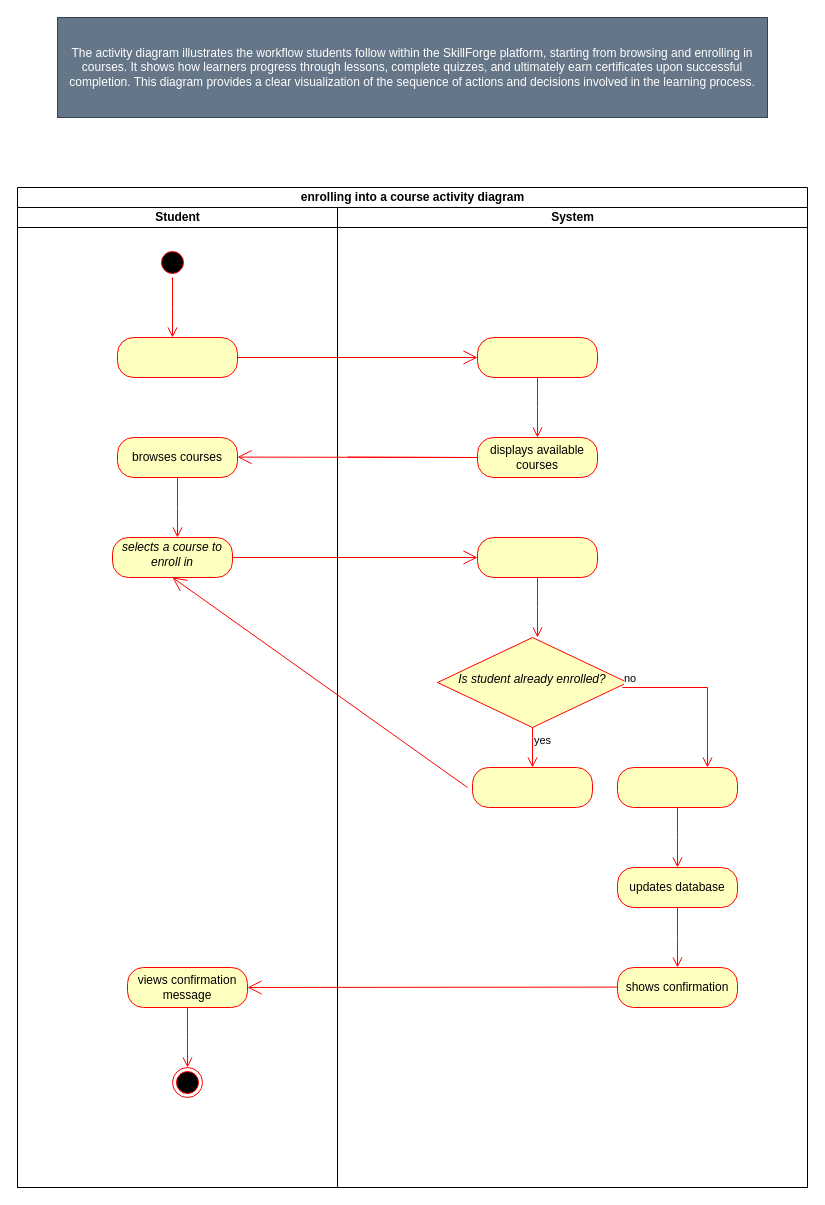
Image size: 825x1205. Some labels were removed from this diagram. The shapes that lost their labels are listed below. From the top down, each one's centre as x and y in pixels, then its label:
At point 177,357: "logs in".
At point 537,357: "verifies credentials".
At point 537,557: "checks if student is already enrolled".
At point 532,787: "show error".
At point 677,787: "enrolls student in course".
